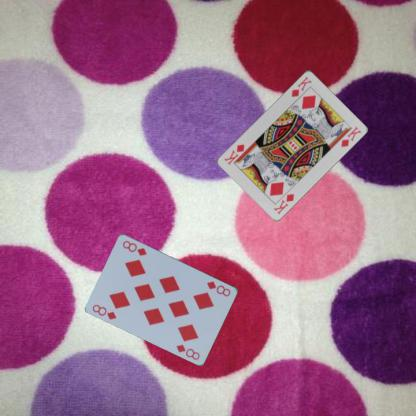8d: (204, 278, 232, 298), (90, 302, 118, 320)
Kd: (271, 190, 295, 216), (289, 74, 313, 98)
